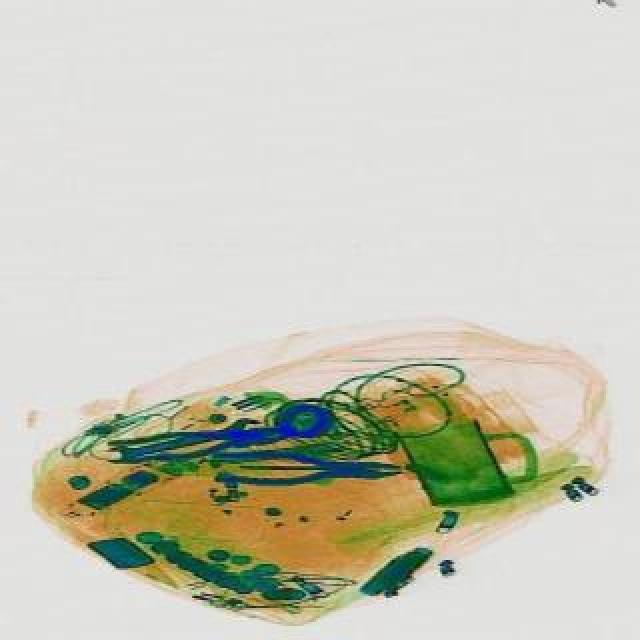scissors: (102, 414, 258, 464)
wrench: (104, 416, 288, 468), (208, 450, 400, 486)
